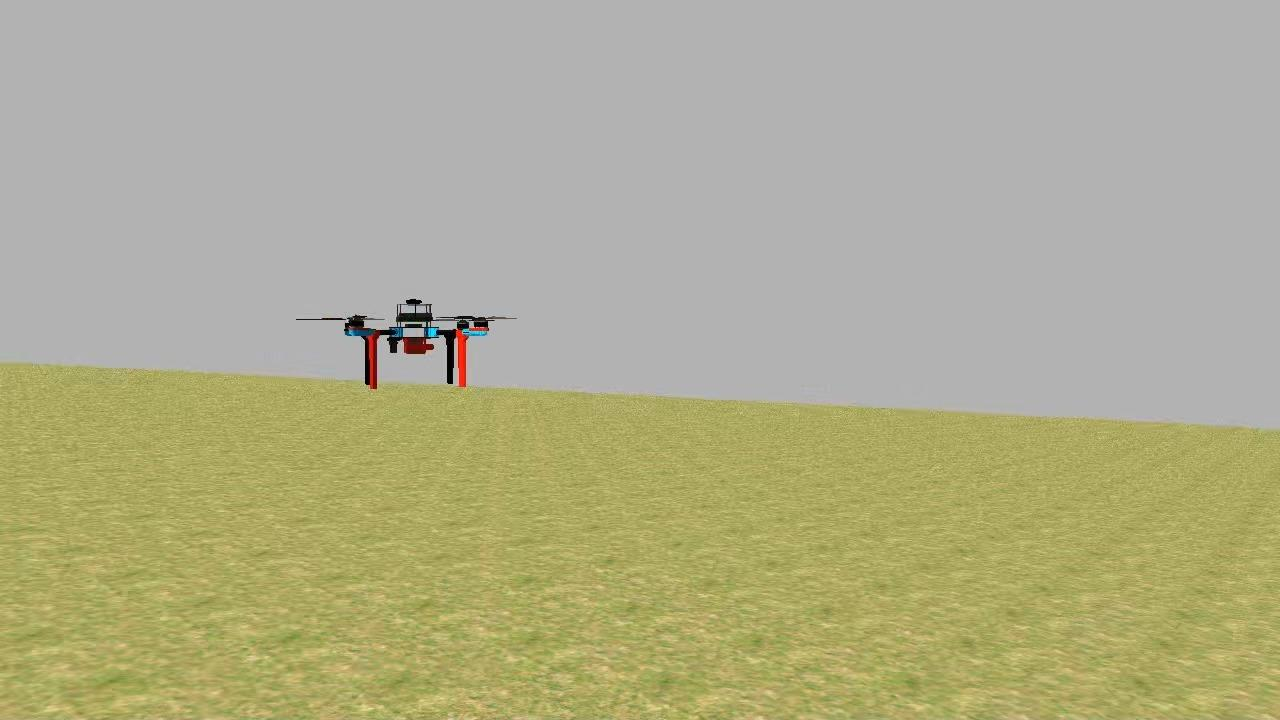UAV: (333, 290, 497, 400)
